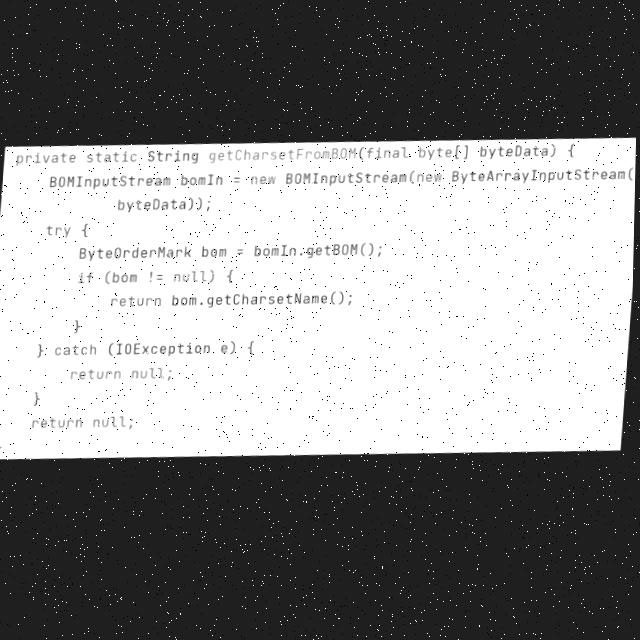code_screen: (0, 140, 636, 459)
